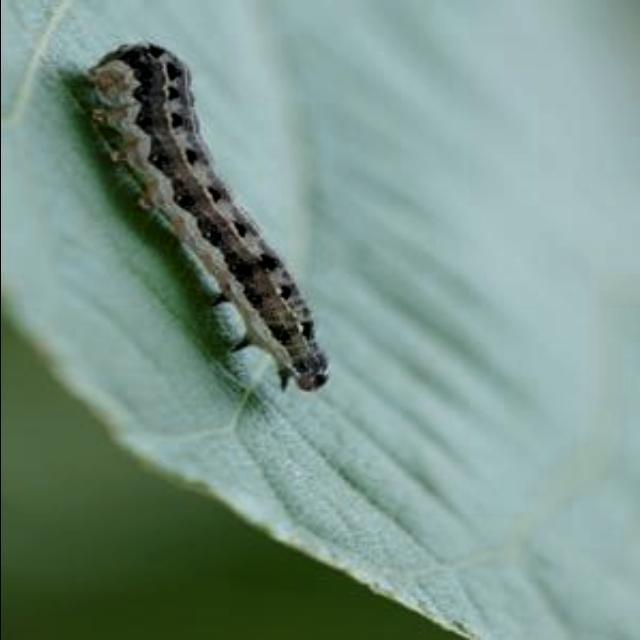Tobacco cutworm: (65, 24, 348, 428)
